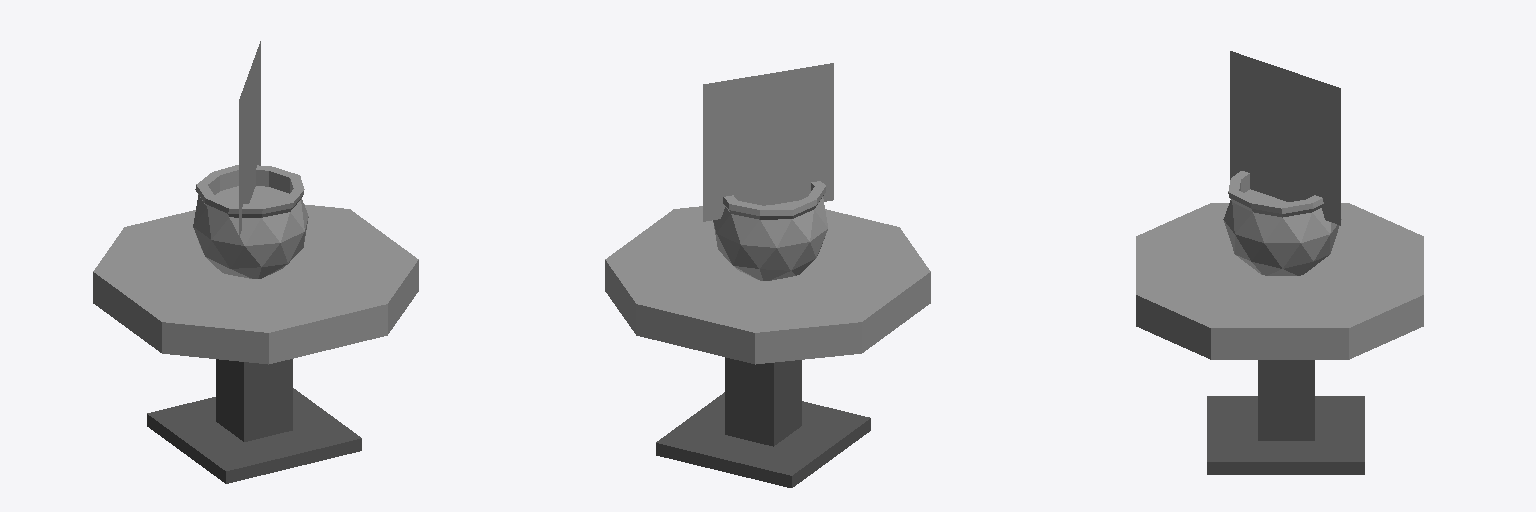
The model's file is Side-Table.obj.
3 renders of one model, left to right at view 1: azimuth 30°, elevation 25°; view 2: azimuth 150°, elevation 25°; view 3: azimuth 270°, elevation 25°, orthographic.
Parts seen in each view (by area): view 1: Cube.131_Cube.140, Cube.133_Cube.150, Icosphere.002, Plane.002; view 2: Cube.131_Cube.140, Plane.002, Cube.133_Cube.150, Icosphere.002; view 3: Cube.131_Cube.140, Cube.133_Cube.150, Plane.002, Icosphere.002.
Part boxes in pixels (bbox=[...]): Cube.131_Cube.140: bbox=[93, 204, 418, 364]; Cube.133_Cube.150: bbox=[147, 359, 361, 483]; Icosphere.002: bbox=[193, 165, 308, 278]; Plane.002: bbox=[239, 41, 260, 235]; Cube.131_Cube.140: bbox=[605, 206, 930, 364]; Plane.002: bbox=[703, 63, 833, 221]; Cube.133_Cube.150: bbox=[656, 357, 870, 487]; Icosphere.002: bbox=[713, 181, 827, 280]; Cube.131_Cube.140: bbox=[1136, 203, 1423, 359]; Cube.133_Cube.150: bbox=[1207, 360, 1364, 474]; Plane.002: bbox=[1230, 51, 1340, 225]; Icosphere.002: bbox=[1223, 171, 1341, 275].
Bounding box in the file's own units: 1.63 × 2.24 × 1.59.